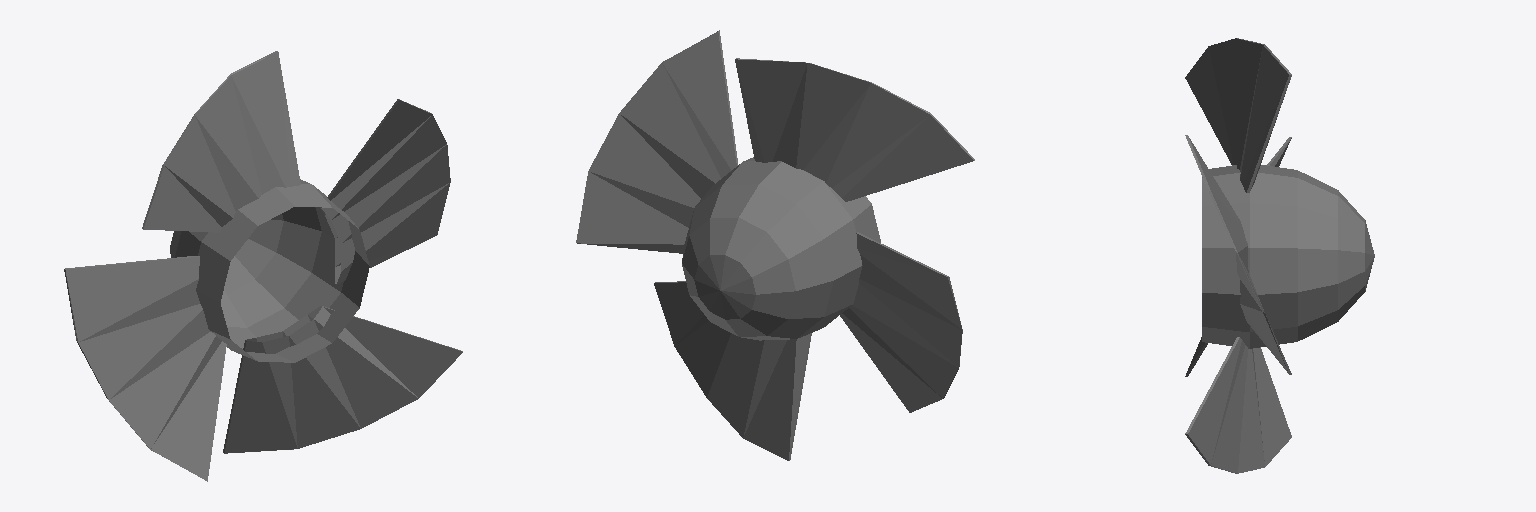
The model's file is prop_bottom_right.obj.
The picture shows the model from 3 angles: view 1: azimuth 30°, elevation 25°; view 2: azimuth 150°, elevation 25°; view 3: azimuth 270°, elevation 25°; orthographic projection.
Visible parts, largest first — view 1: rdmobj00.189, rdmobj00.063, rdmobj00.193, rdmobj00.190, rdmobj00.192; view 2: rdmobj00.063, rdmobj00.192, rdmobj00.190, rdmobj00.189, rdmobj00.193; view 3: rdmobj00.063, rdmobj00.190, rdmobj00.193, rdmobj00.192.
Part boxes in pixels (x1,y1,x2,y2): rdmobj00.189: (64,256,228,481); rdmobj00.063: (170,179,369,362); rdmobj00.193: (223,306,462,453); rdmobj00.190: (142,51,300,232); rdmobj00.192: (320,99,450,284); rdmobj00.063: (682,157,880,340); rdmobj00.192: (576,30,737,253); rdmobj00.190: (735,58,974,201); rdmobj00.189: (840,232,962,412); rdmobj00.193: (654,281,811,460); rdmobj00.063: (1202,165,1374,348); rdmobj00.190: (1185,38,1291,192); rdmobj00.193: (1185,337,1291,473); rdmobj00.192: (1185,135,1291,374).
Bounding box in the file's own units: 94.73 × 94.73 × 41.66.